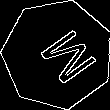M_SW: (23, 21, 92, 88)
